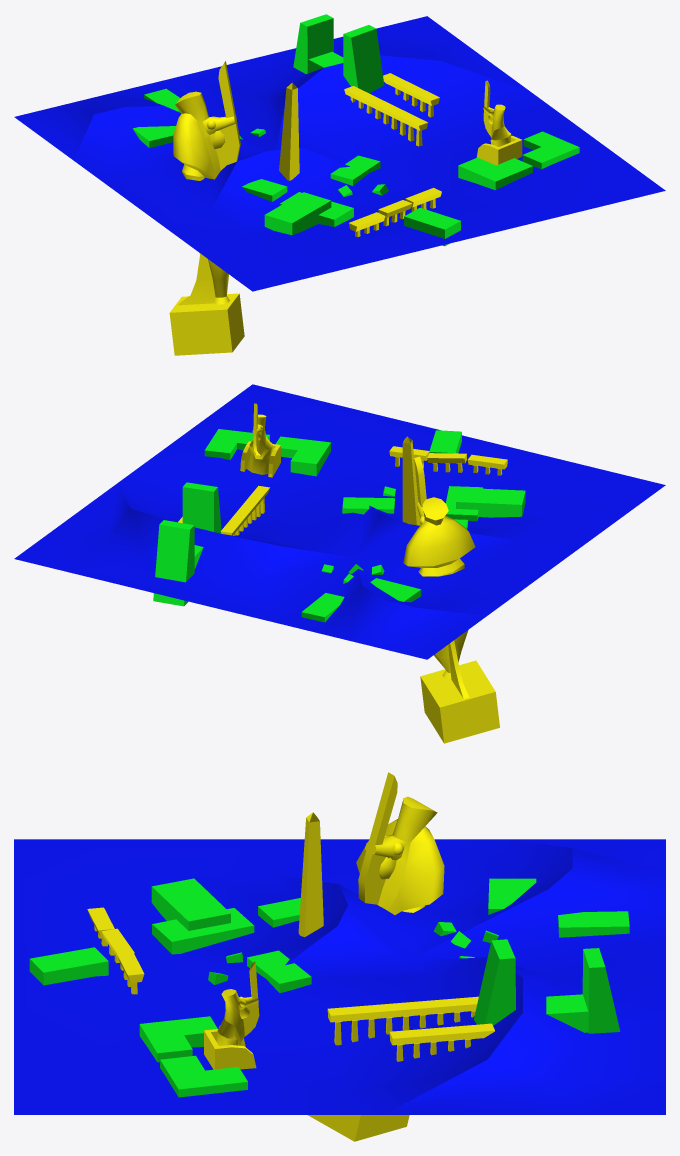
File: mesh_lostvalley_01.FBX
3 views of the same model, one above another, from view 1: azimuth 30°, elevation 25°; view 2: azimuth 150°, elevation 25°; view 3: azimuth 270°, elevation 25° (orthographic). The views are drawn at different scales.
Parts seen in each view (by area): view 1: lostvalley_01; view 2: lostvalley_01; view 3: lostvalley_01.
Boxes of the visible parts, bbox=[...] form: lostvalley_01: bbox=[14, 14, 665, 355]; lostvalley_01: bbox=[14, 384, 665, 743]; lostvalley_01: bbox=[14, 772, 665, 1141].
Size of the model in its own units: 20 by 12.7 by 20.
